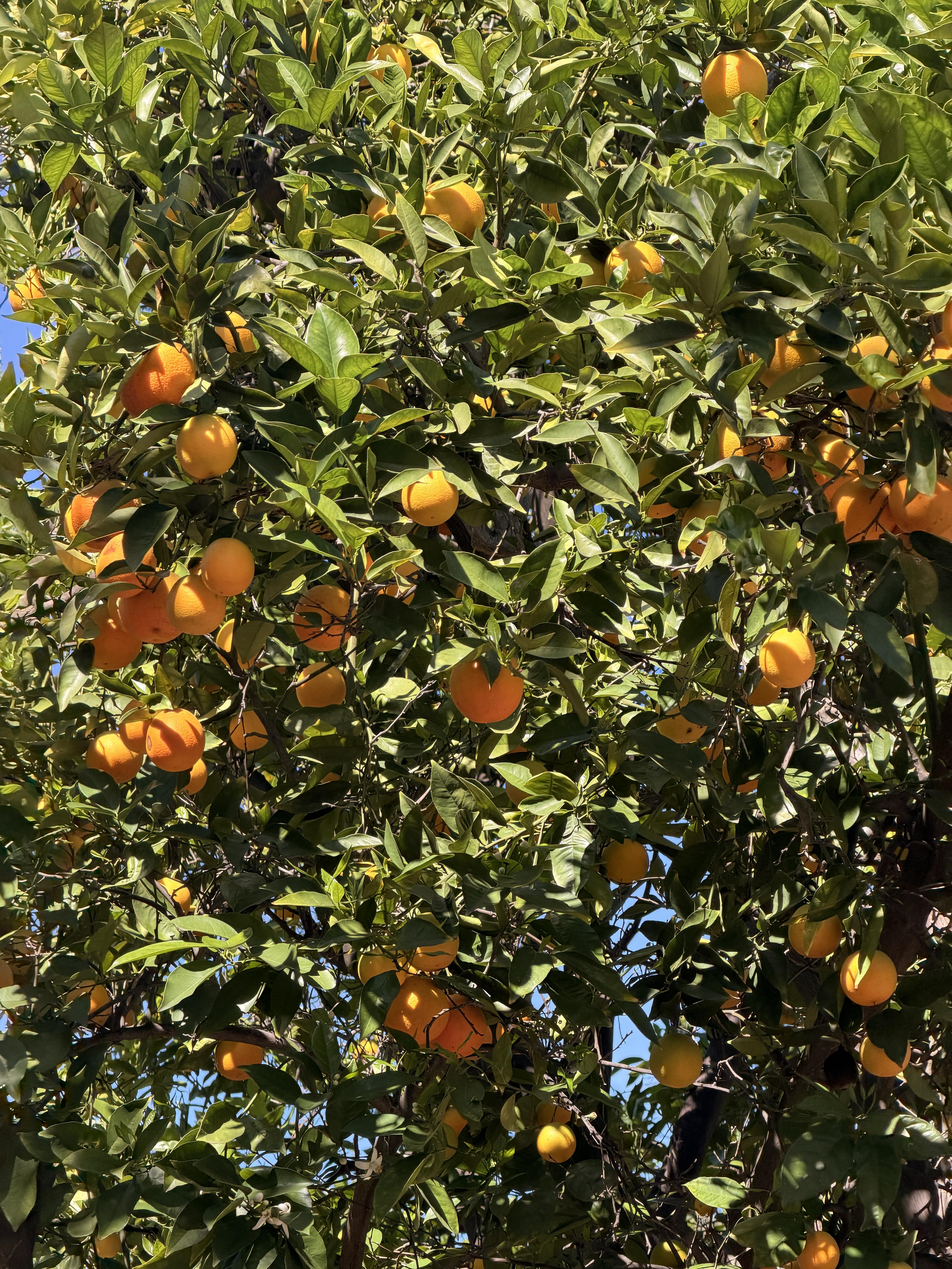orange: (119, 343, 196, 417), (117, 564, 182, 644), (71, 479, 142, 549), (385, 973, 450, 1044), (450, 661, 524, 722), (75, 602, 142, 669), (701, 50, 767, 117), (293, 585, 357, 652), (830, 478, 897, 542), (846, 337, 903, 411), (94, 533, 157, 598), (889, 476, 952, 541), (176, 414, 238, 480), (801, 436, 863, 501), (422, 178, 485, 239), (428, 993, 487, 1058), (146, 708, 205, 772), (751, 332, 818, 387), (166, 573, 226, 634), (840, 950, 897, 1006), (604, 241, 662, 296), (200, 538, 254, 597), (402, 470, 458, 526), (787, 905, 843, 958), (86, 732, 143, 784), (649, 1033, 702, 1088), (119, 700, 168, 755), (357, 943, 418, 986), (295, 663, 346, 708), (66, 979, 112, 1027), (404, 935, 460, 972), (602, 839, 648, 884), (214, 1040, 264, 1081), (860, 1037, 911, 1077), (369, 41, 413, 86), (377, 561, 419, 605), (796, 1231, 840, 1269), (229, 709, 268, 751), (536, 1123, 576, 1162), (335, 544, 375, 583), (366, 193, 400, 236), (356, 380, 389, 421), (535, 1097, 573, 1126), (443, 1107, 467, 1136), (235, 569, 235, 569), (429, 491, 429, 491)
